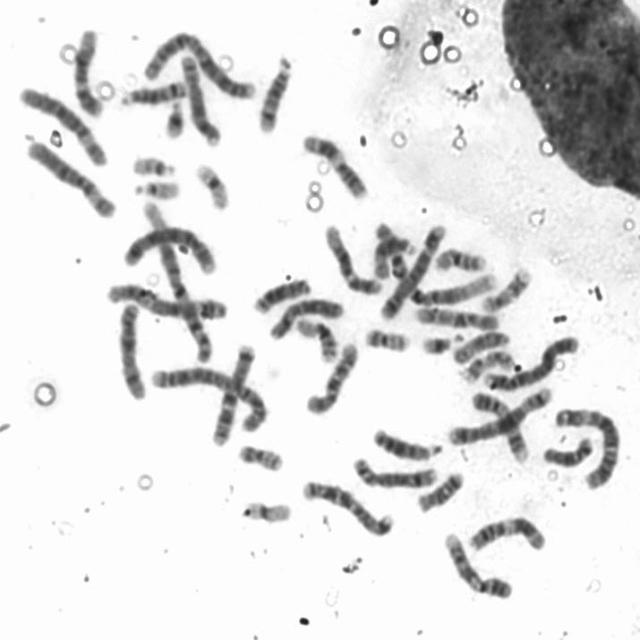A1: (135, 194, 216, 366), (372, 216, 498, 311)
A2: (143, 359, 272, 436), (140, 26, 260, 101)
A3: (552, 403, 621, 491), (102, 276, 230, 322)
B4: (482, 332, 580, 394), (120, 222, 217, 275)
B5: (442, 379, 556, 447), (376, 218, 449, 322)
C10: (302, 334, 364, 417), (412, 302, 501, 334)
C11: (297, 128, 370, 201), (462, 511, 550, 554)
C12: (319, 218, 386, 297), (69, 22, 107, 119)
C6: (13, 80, 109, 169), (22, 134, 119, 221)
C7: (298, 476, 397, 539), (207, 337, 260, 448)
C8: (176, 49, 225, 147), (348, 452, 440, 491)
C9: (438, 527, 516, 601), (465, 386, 531, 465)
D13: (369, 422, 443, 463), (249, 272, 312, 316)
D14: (254, 51, 296, 135), (117, 76, 192, 108)
D15: (448, 324, 513, 366), (369, 231, 417, 281)
E16: (291, 314, 340, 364), (430, 243, 488, 275)
E17: (477, 262, 534, 314), (456, 346, 516, 386)
E18: (413, 464, 468, 514), (538, 432, 595, 469)
F19: (190, 157, 232, 212), (237, 496, 295, 526)
F20: (233, 438, 287, 474), (360, 322, 412, 354)
G21: (160, 92, 187, 140), (417, 328, 461, 357)
G22: (127, 149, 179, 179), (129, 174, 183, 200)
X: (265, 294, 346, 342), (114, 299, 148, 401)
